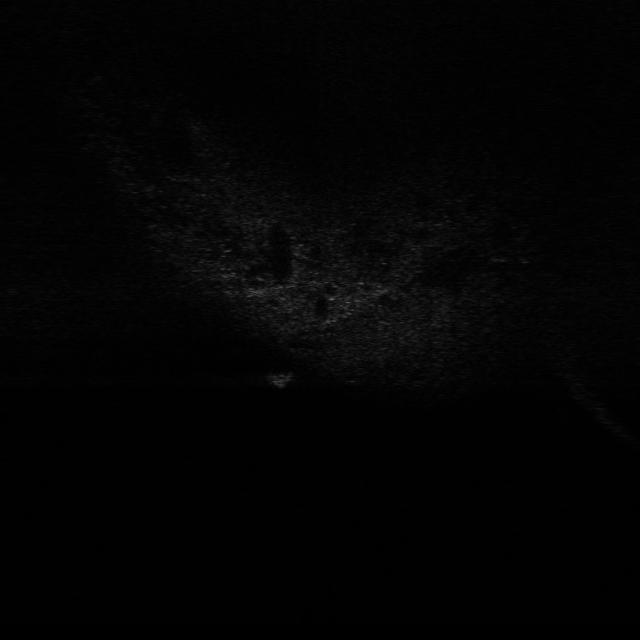cube: (258, 368, 297, 391)
